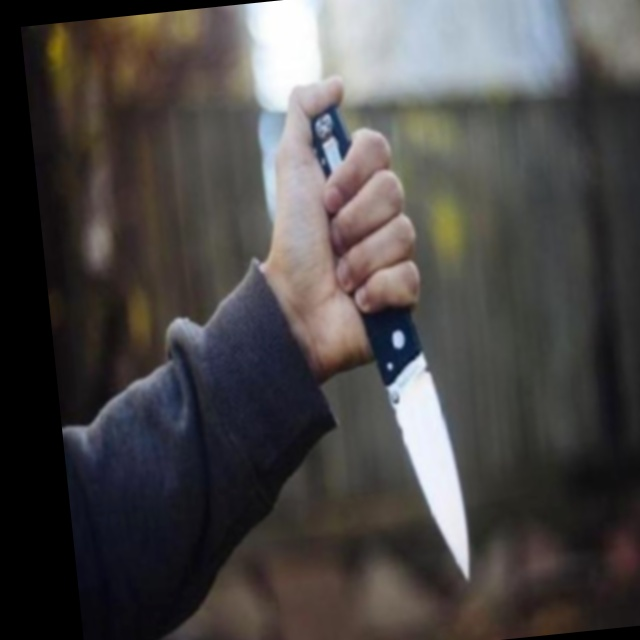Sharp-Object: (309, 97, 475, 591)
